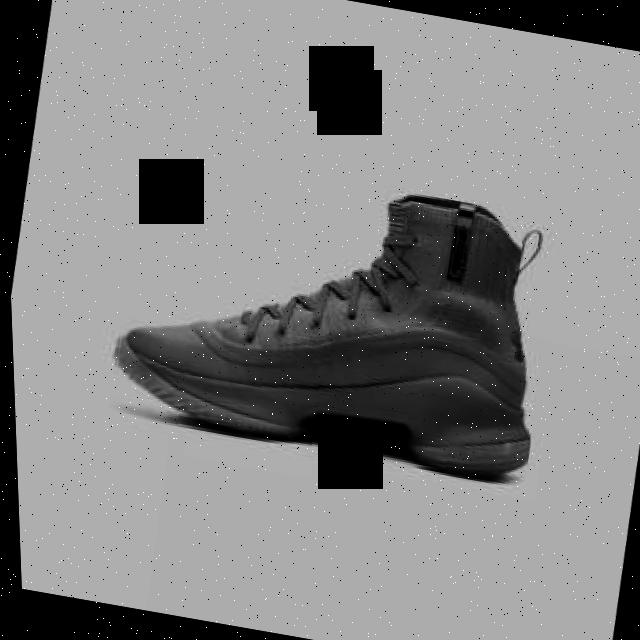shoe: (94, 146, 567, 487)
